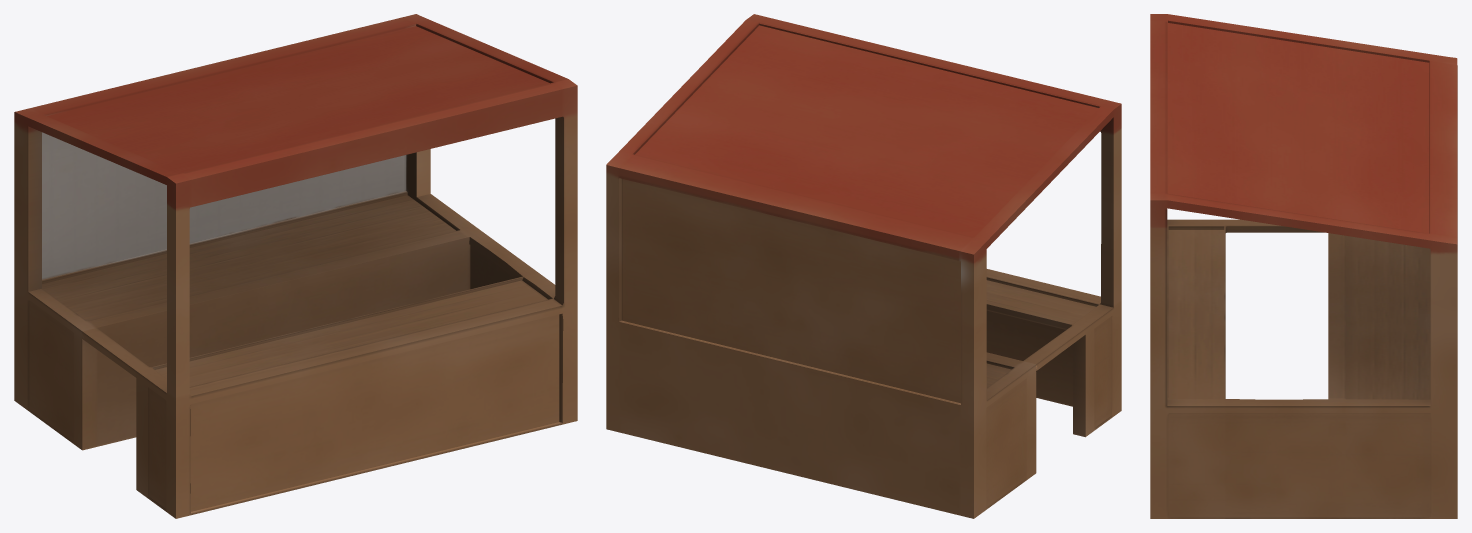
The model's file is stall.fbx.
3 renders of one model, left to right at view 1: azimuth 30°, elevation 25°; view 2: azimuth 150°, elevation 25°; view 3: azimuth 270°, elevation 25°, orthographic. The views are drawn at different scales.
Visible parts, largest first — view 1: Market_Stall; view 2: Market_Stall; view 3: Market_Stall.
Boxes of the visible parts, box(x1,y1,x2,y2) form: Market_Stall: box(14, 14, 577, 518); Market_Stall: box(606, 14, 1121, 518); Market_Stall: box(1150, 14, 1457, 518).
Bounding box in the file's own units: 281 × 224 × 195.
1 material, 1 textured.
